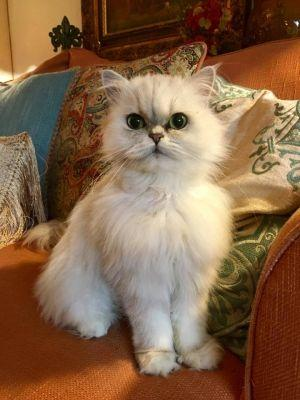persian: (96, 64, 231, 189)
